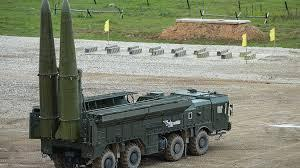rszo: (35, 91, 238, 166)
